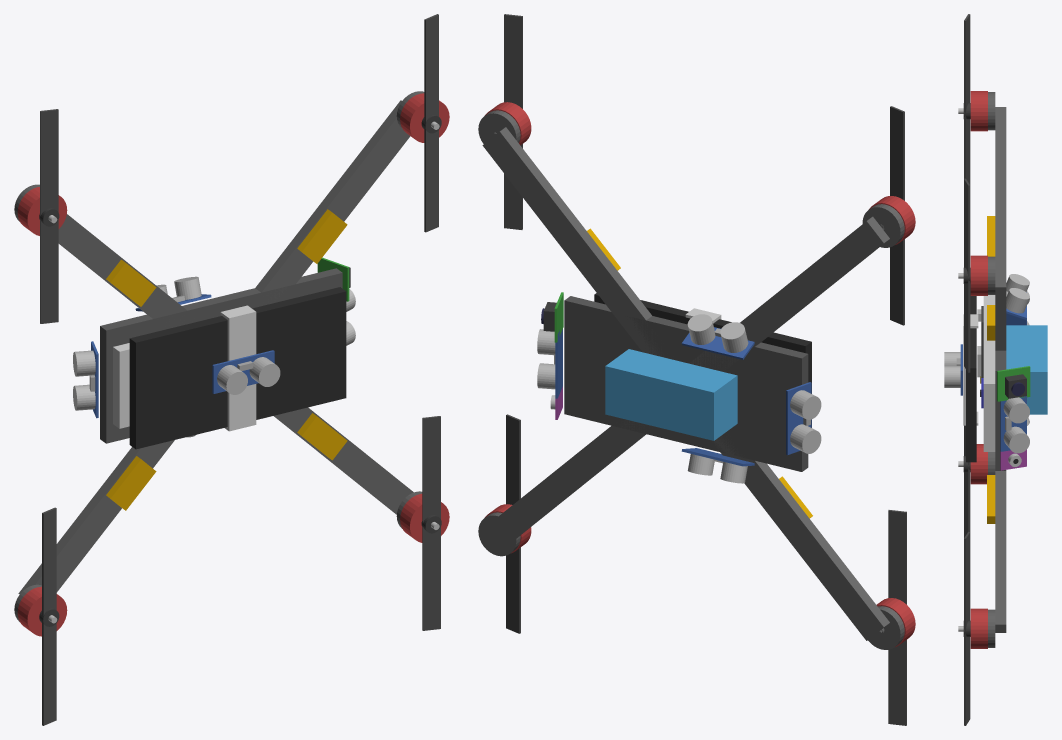
The model's file is drone_assembly.glb.
3 renders of one model, left to right at view 1: azimuth 30°, elevation 25°; view 2: azimuth 150°, elevation 25°; view 3: azimuth 270°, elevation 25°, orthographic. The views are drawn at different scales.
Visible parts, largest first — view 1: geometry_36, geometry_0, geometry_1, geometry_15, geometry_27, geometry_13, geometry_22, geometry_6, geometry_20, geometry_8, geometry_60, geometry_29 (+10 smaller); view 2: geometry_0, geometry_37, geometry_1, geometry_15, geometry_8, geometry_22, geometry_20, geometry_6, geometry_13, geometry_27, geometry_36, geometry_9 (+7 smaller); view 3: geometry_37, geometry_22, geometry_8, geometry_29, geometry_36, geometry_6, geometry_27, geometry_13, geometry_1, geometry_3, geometry_10, geometry_24 (+22 smaller).
Boxes of the visible parts, x1=… form: geometry_36: x1=129, y1=287, x2=346, y2=449; geometry_0: x1=100, y1=268, x2=342, y2=443; geometry_1: x1=255, y1=100, x2=410, y2=300; geometry_15: x1=18, y1=440, x2=174, y2=594; geometry_27: x1=422, y1=416, x2=440, y2=630; geometry_13: x1=40, y1=109, x2=58, y2=323; geometry_22: x1=274, y1=407, x2=413, y2=514; geometry_6: x1=424, y1=14, x2=438, y2=232; geometry_20: x1=42, y1=507, x2=56, y2=725; geometry_8: x1=58, y1=214, x2=186, y2=318; geometry_60: x1=227, y1=311, x2=256, y2=431; geometry_29: x1=113, y1=343, x2=129, y2=428; geometry_0: x1=564, y1=296, x2=808, y2=471; geometry_37: x1=605, y1=349, x2=737, y2=440; geometry_1: x1=482, y1=127, x2=665, y2=357; geometry_15: x1=712, y1=433, x2=889, y2=640; geometry_8: x1=689, y1=216, x2=889, y2=371; geometry_22: x1=482, y1=420, x2=652, y2=551; geometry_20: x1=888, y1=510, x2=906, y2=725; geometry_6: x1=504, y1=14, x2=522, y2=229; geometry_13: x1=890, y1=106, x2=904, y2=325; geometry_27: x1=506, y1=414, x2=520, y2=633; geometry_36: x1=594, y1=293, x2=811, y2=427; geometry_9: x1=862, y1=204, x2=904, y2=247; geometry_37: x1=1006, y1=325, x2=1047, y2=414; geometry_22: x1=995, y1=471, x2=1006, y2=632; geometry_8: x1=995, y1=107, x2=1006, y2=263; geometry_29: x1=983, y1=295, x2=995, y2=451; geometry_36: x1=966, y1=284, x2=976, y2=462; geometry_6: x1=964, y1=178, x2=970, y2=372; geometry_27: x1=964, y1=531, x2=970, y2=725; geometry_13: x1=964, y1=14, x2=970, y2=184; geometry_1: x1=995, y1=264, x2=1006, y2=350; geometry_3: x1=970, y1=255, x2=987, y2=295; geometry_10: x1=970, y1=91, x2=987, y2=131; geometry_24: x1=970, y1=608, x2=987, y2=648.
Size of the model in its own units: 312 by 433 by 75.1.
